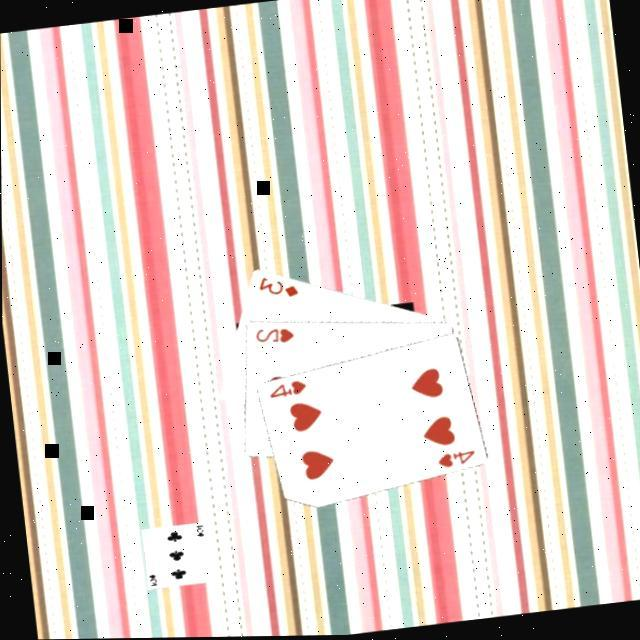2H: (248, 323, 294, 350)
3D: (251, 270, 299, 306)
4H: (430, 447, 476, 473), (262, 377, 307, 403)
